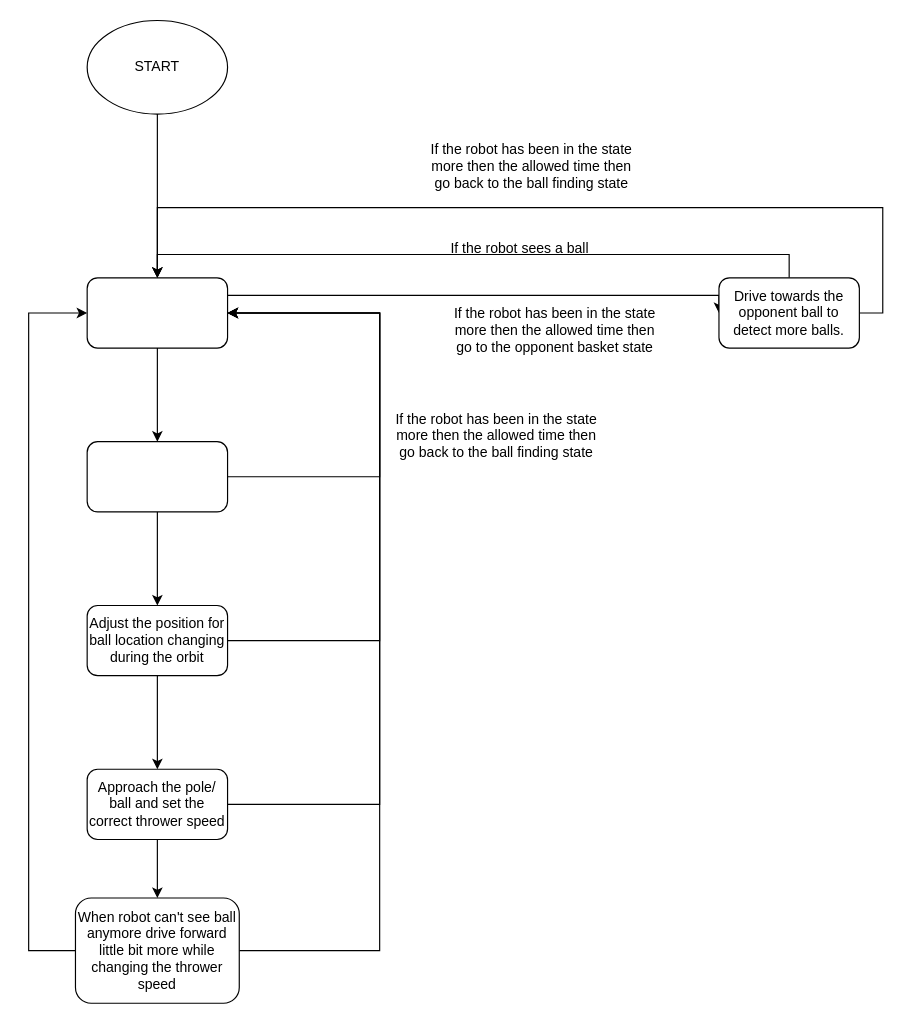
This 913x1024 diagram has some shape labels left out. Here are the shapes that lost their labels. From the top down, the centre of each, then its label:
At point (157, 312): "Spin until the robot sees the ball and approach to the ball".
At point (157, 476): "Spin around the ball until the pole is in the center of the screen".
